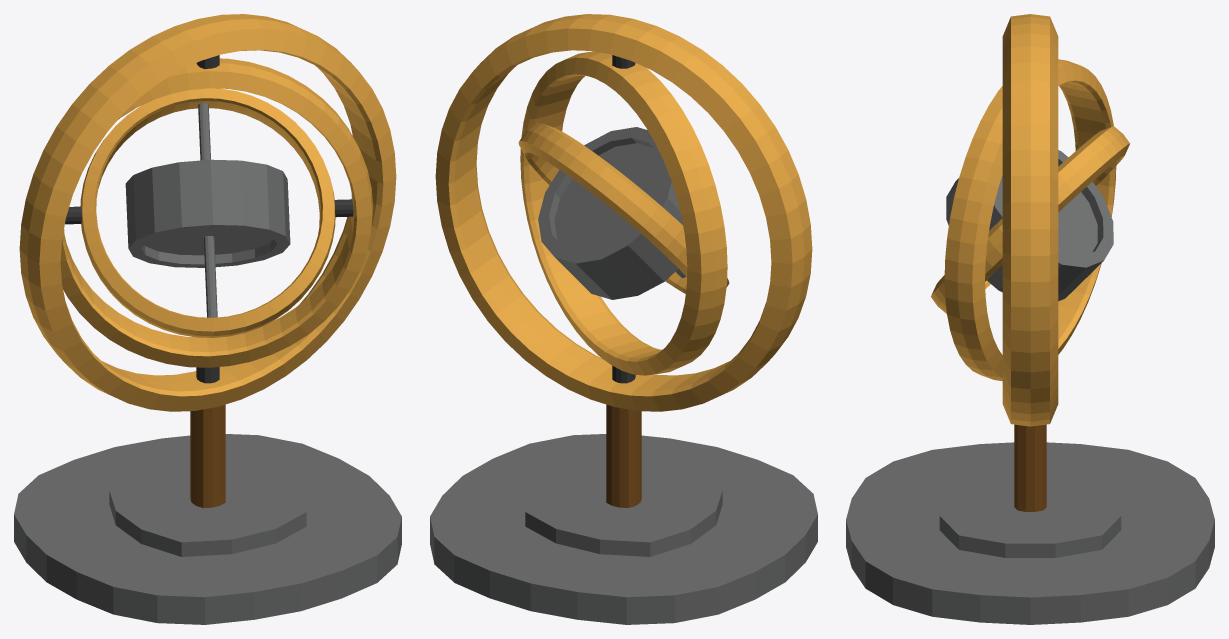
The model's file is гироскоп.fbx.
3 renders of one model, left to right at view 1: azimuth 30°, elevation 25°; view 2: azimuth 150°, elevation 25°; view 3: azimuth 270°, elevation 25°, orthographic.
Parts seen in each view (by area): view 1: Cube; view 2: Cube; view 3: Cube.
Part boxes in pixels (<box>): Cube: <box>14,14,401,624</box>; Cube: <box>430,14,817,624</box>; Cube: <box>846,14,1214,624</box>.
Size of the model in its own units: 224 by 307 by 200.
